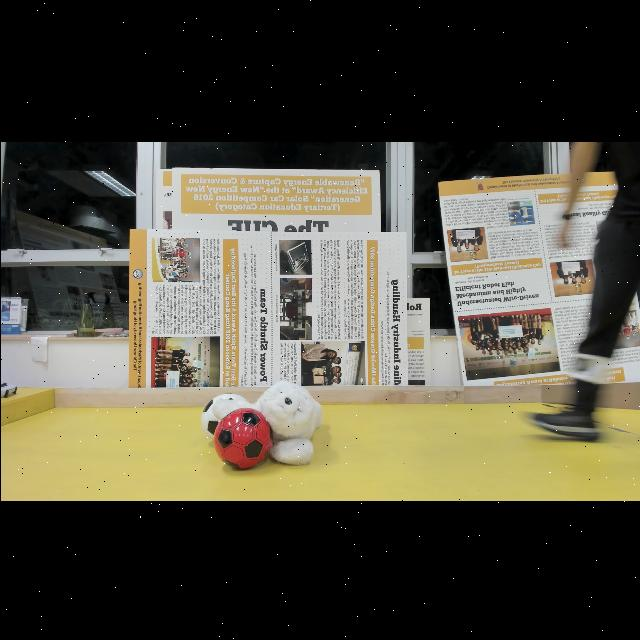R: (209, 404, 277, 470)
